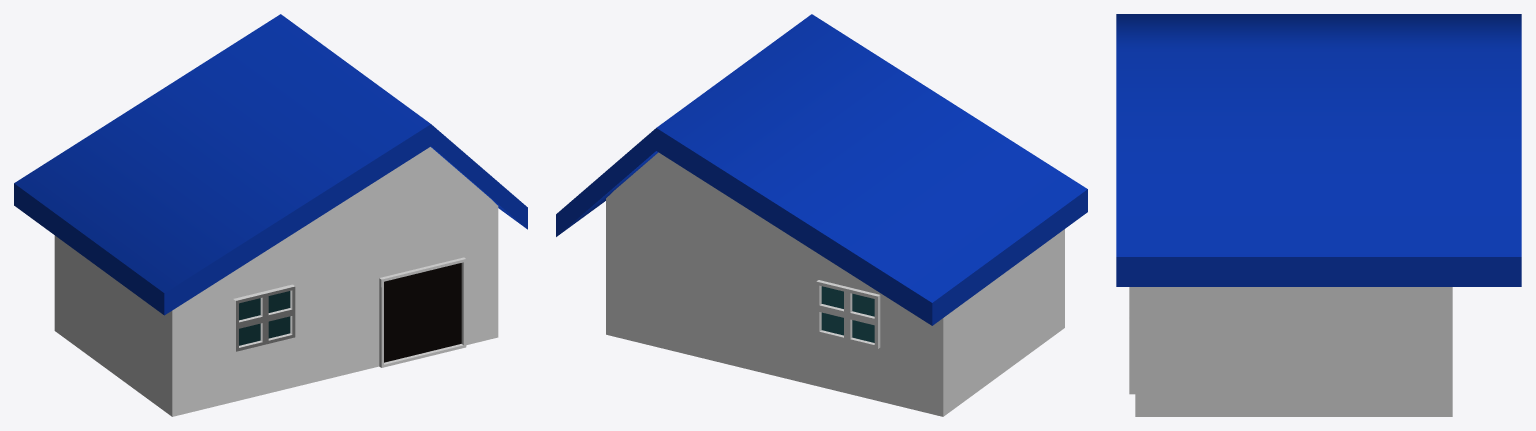
Rendered from house_02.FBX.
3 renders of one model, left to right at view 1: azimuth 30°, elevation 25°; view 2: azimuth 150°, elevation 25°; view 3: azimuth 270°, elevation 25°, orthographic. The views are drawn at different scales.
Visible parts, largest first — view 1: Roof, house; view 2: Roof, house; view 3: Roof, house.
Part boxes in pixels (x1,y1,x2,y2): Roof: [14, 14, 527, 315]; house: [54, 147, 498, 416]; Roof: [556, 14, 1087, 325]; house: [606, 152, 1064, 416]; Roof: [1116, 14, 1521, 286]; house: [1129, 287, 1452, 416].
Size of the model in its own units: 35.52 by 22.1 by 25.44.
